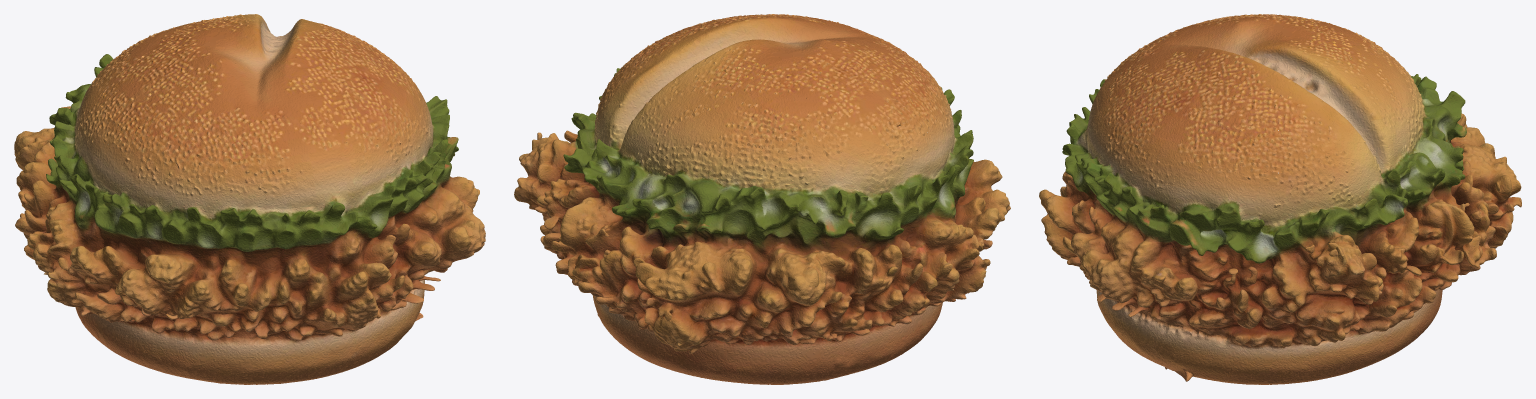
The model's file is zinger_burger.glb.
The picture shows the model from 3 angles, left to right: view 1: azimuth 30°, elevation 25°; view 2: azimuth 150°, elevation 25°; view 3: azimuth 270°, elevation 25°; orthographic projection.
Parts seen in each view (by area): view 1: tripo_node_a11e634d-2512-4d2c-b934-5e26fe2ad1e2; view 2: tripo_node_a11e634d-2512-4d2c-b934-5e26fe2ad1e2; view 3: tripo_node_a11e634d-2512-4d2c-b934-5e26fe2ad1e2.
Boxes of the visible parts, x1,y1,x2,y2 form: tripo_node_a11e634d-2512-4d2c-b934-5e26fe2ad1e2: [14, 14, 485, 384]; tripo_node_a11e634d-2512-4d2c-b934-5e26fe2ad1e2: [514, 14, 1010, 384]; tripo_node_a11e634d-2512-4d2c-b934-5e26fe2ad1e2: [1039, 14, 1521, 384].
Size of the model in its own units: 0.9717 by 0.645 by 0.9905.
1 material, 1 textured.
